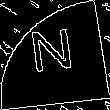N_S: (30, 27, 80, 83)
